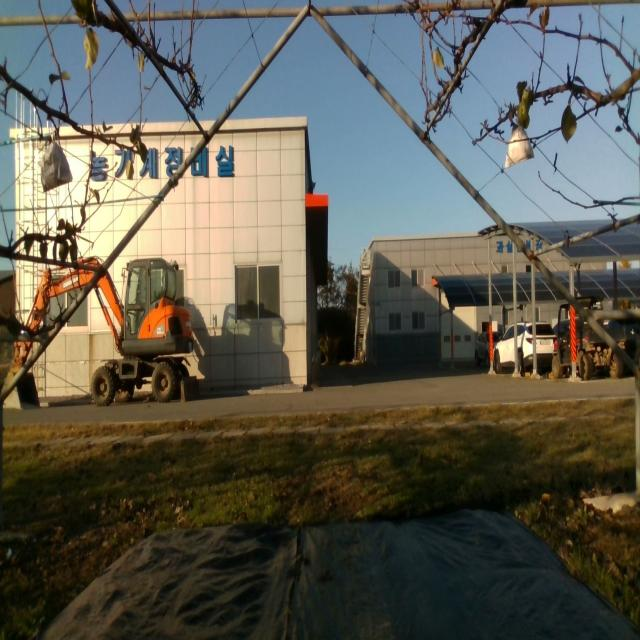pearbags: (39, 133, 73, 191), (505, 126, 535, 169)
